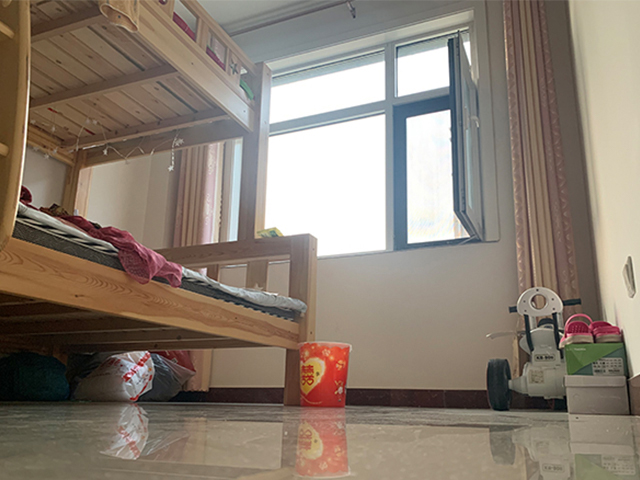bed: (1, 1, 317, 406)
curtain: (505, 1, 583, 318), (171, 140, 221, 391)
trashcan: (297, 340, 351, 409)
